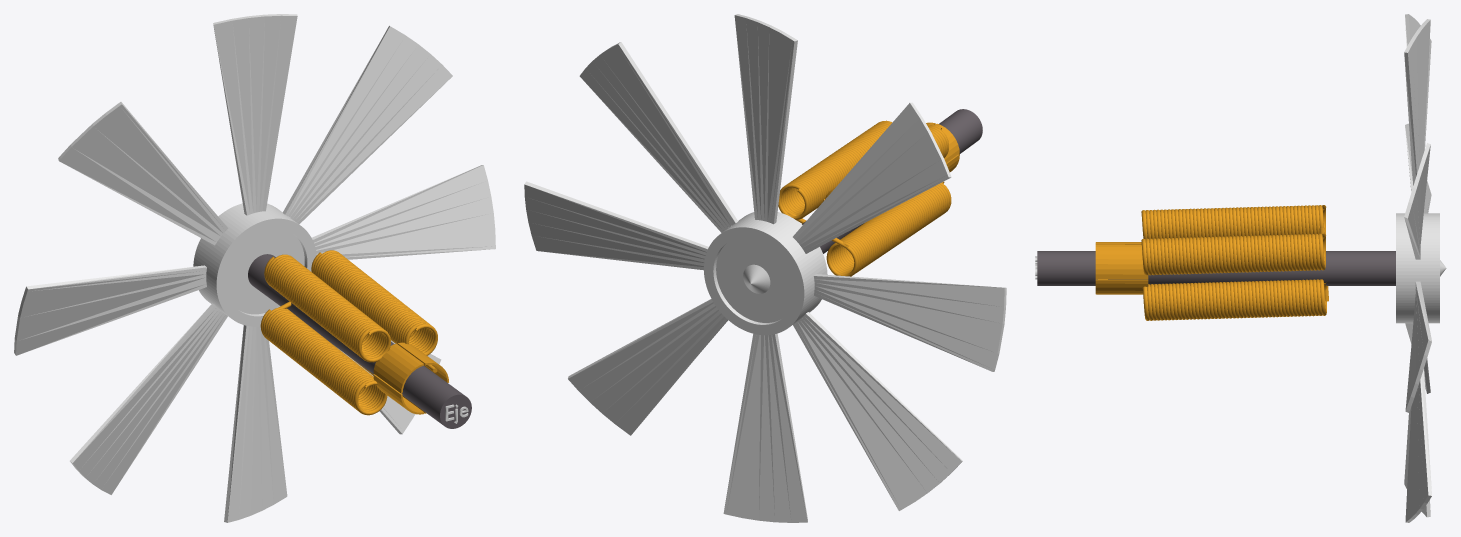
File: elices.dae
The picture shows the model from 3 angles, left to right: view 1: azimuth 30°, elevation 25°; view 2: azimuth 150°, elevation 25°; view 3: azimuth 270°, elevation 25°; orthographic projection. The views are drawn at different scales.
Parts seen in each view (by area): view 1: Cylinder.001, Spiral.003; view 2: Cylinder.001, Spiral.003; view 3: Spiral.003, Cylinder.001.
Boxes of the visible parts, bbox=[...] form: Cylinder.001: bbox=[14, 14, 495, 522]; Spiral.003: bbox=[260, 250, 448, 415]; Cylinder.001: bbox=[524, 14, 1006, 522]; Spiral.003: bbox=[778, 120, 959, 276]; Spiral.003: bbox=[1095, 205, 1328, 320]; Cylinder.001: bbox=[1035, 14, 1446, 522].
Size of the model in its own units: 4.72 by 3.74 by 4.72.
